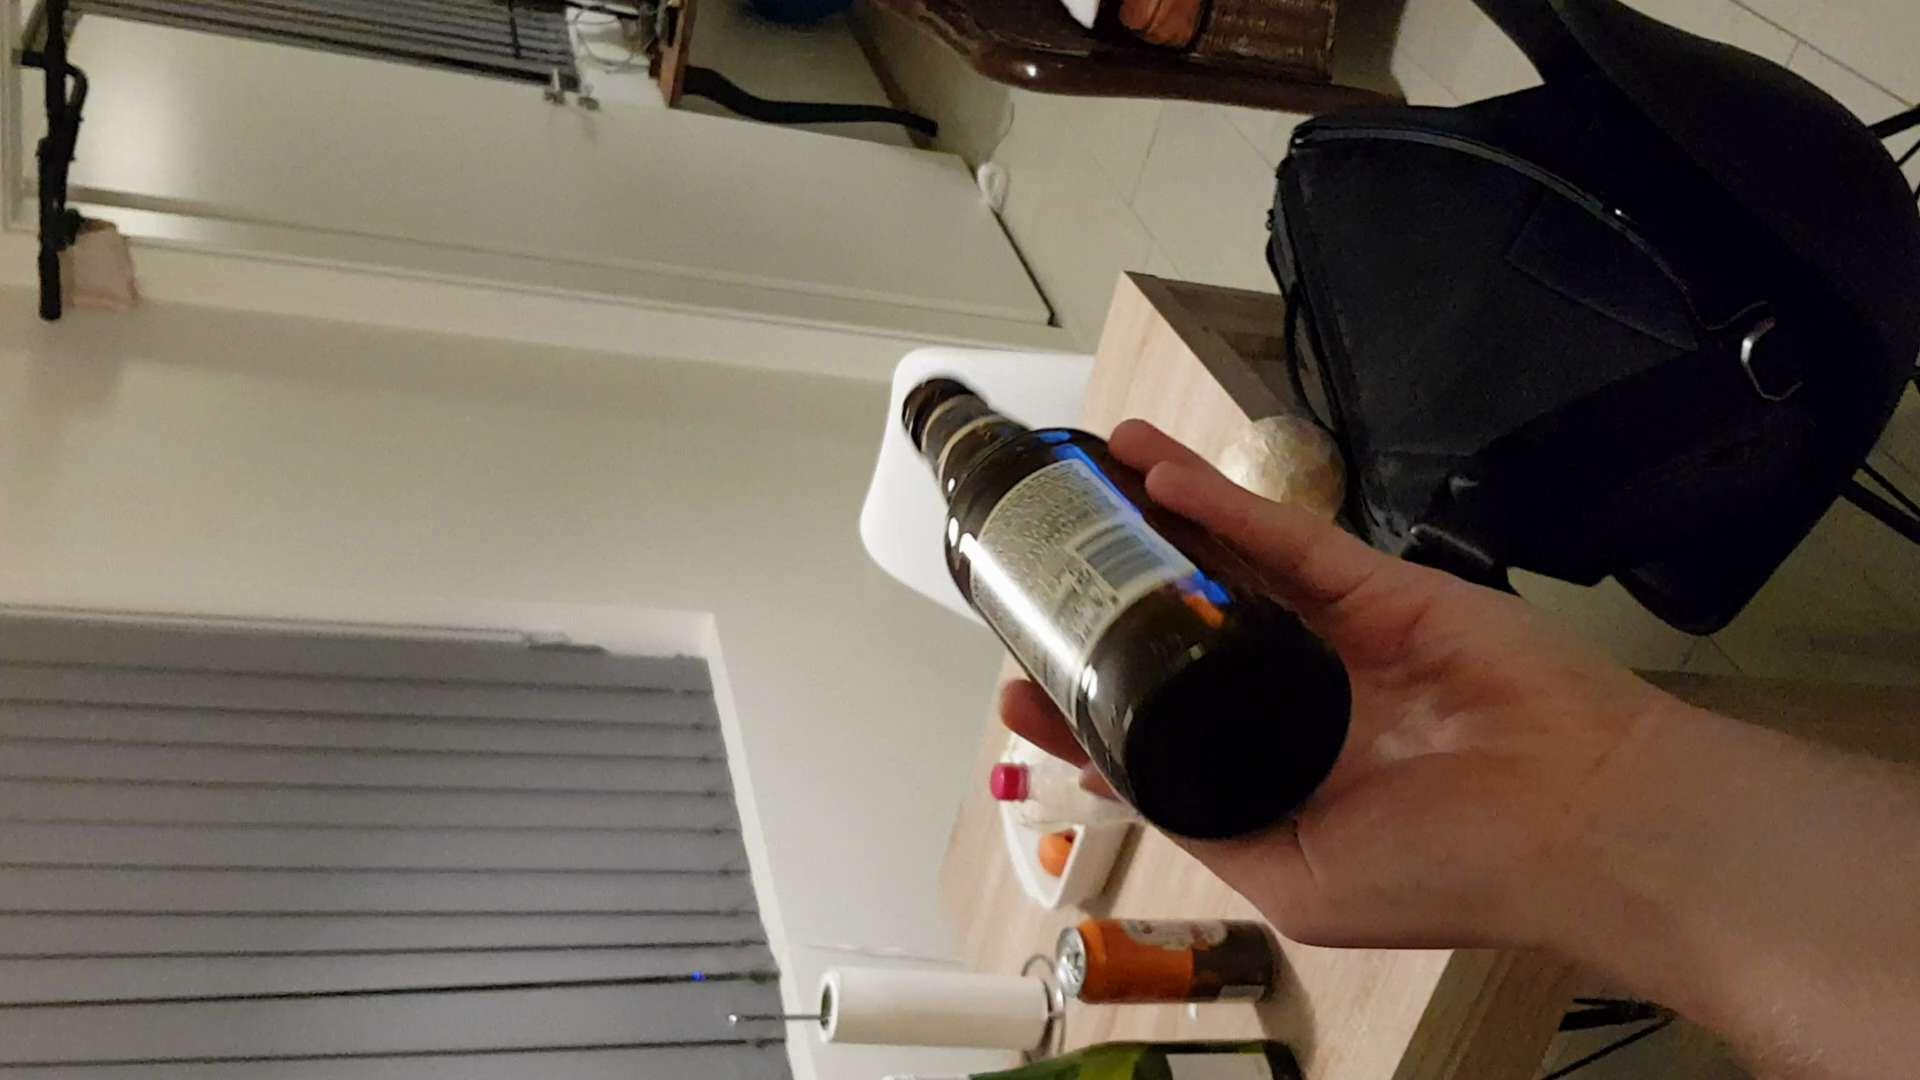Bottle: (894, 382, 1349, 843)
Can: (1058, 905, 1298, 1019)
